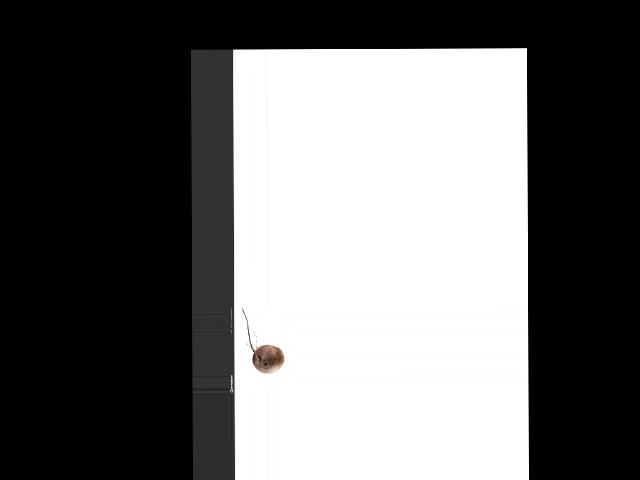beet: (241, 307, 283, 373)
